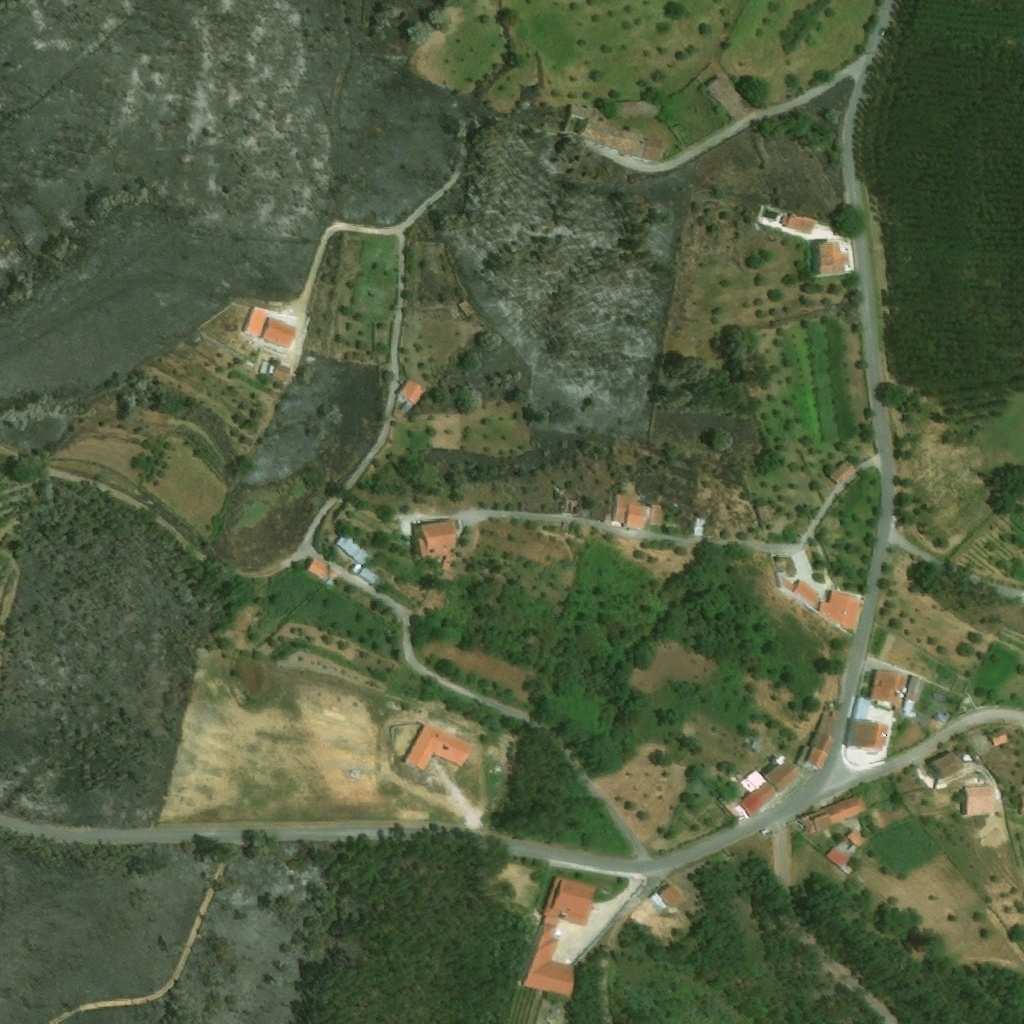0 no-damage: (563, 105, 666, 163), (519, 916, 574, 998), (789, 793, 868, 849), (401, 722, 471, 772), (542, 872, 597, 927), (722, 768, 777, 822), (702, 71, 754, 121), (240, 305, 296, 350), (417, 519, 461, 575), (816, 590, 864, 636), (612, 492, 664, 529), (796, 729, 834, 770), (844, 716, 891, 749), (778, 574, 822, 609), (902, 674, 931, 725), (867, 668, 907, 704), (765, 758, 805, 793), (611, 96, 663, 122), (924, 747, 964, 780), (824, 836, 857, 876), (649, 878, 685, 912), (334, 533, 372, 565), (346, 562, 385, 591), (818, 241, 851, 272), (826, 458, 859, 486), (397, 376, 427, 404), (780, 210, 816, 233), (259, 359, 292, 383), (303, 556, 331, 582), (816, 708, 841, 736), (985, 727, 1011, 750), (753, 501, 779, 521), (845, 827, 866, 847), (748, 737, 765, 753), (775, 753, 788, 766), (877, 699, 890, 709), (325, 578, 333, 587), (904, 679, 909, 686)
1 minor-damage: (457, 298, 477, 320)
3 destroyed: (559, 499, 581, 514)
4 un-classified: (1017, 793, 1023, 816)
